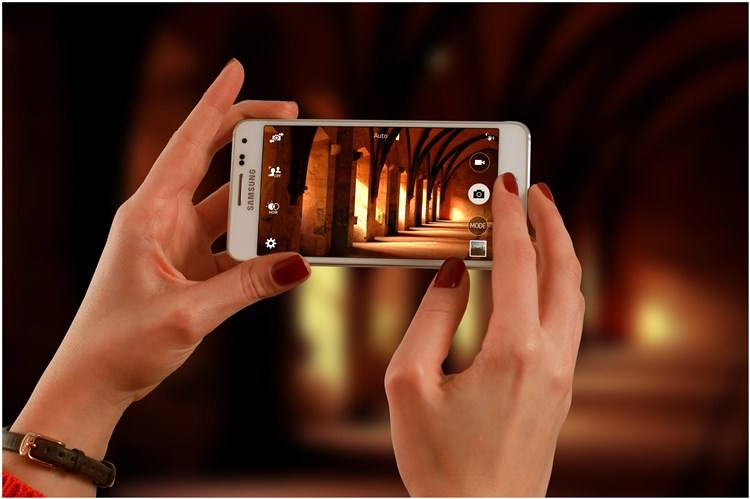taking photos: (66, 48, 587, 491)
